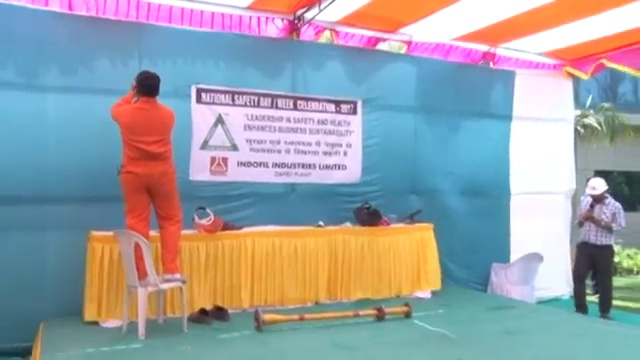helmet: (583, 175, 609, 198)
helmet_off: (134, 68, 161, 99)
helmet_on: (581, 173, 609, 207)
person: (105, 67, 191, 288), (570, 175, 626, 323)
